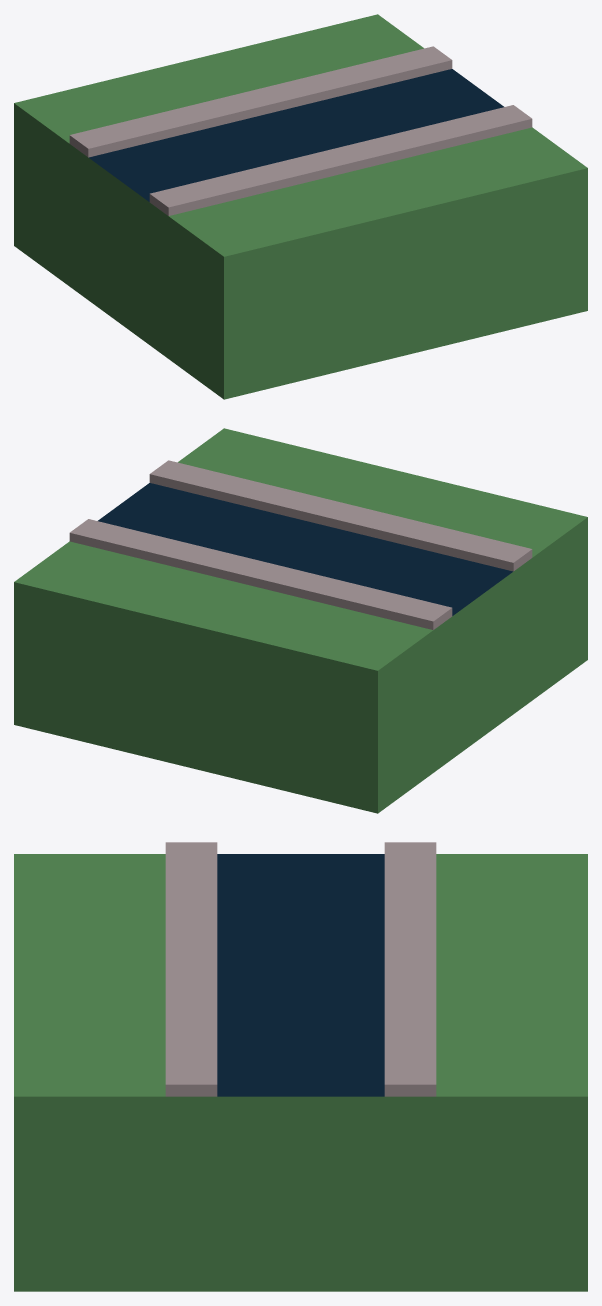
Rendered from Straight.fbx.
3 views of the same model, one above another, from view 1: azimuth 30°, elevation 25°; view 2: azimuth 150°, elevation 25°; view 3: azimuth 270°, elevation 25° (orthographic). The views are drawn at different scales.
Parts seen in each view (by area): view 1: Cube.010; view 2: Cube.010; view 3: Cube.010.
Part boxes in pixels (x1,y1,x2,y2): Cube.010: (14, 14, 587, 399); Cube.010: (14, 428, 587, 813); Cube.010: (14, 842, 587, 1291).
Bounding box in the file's own units: 400 × 159 × 400.
